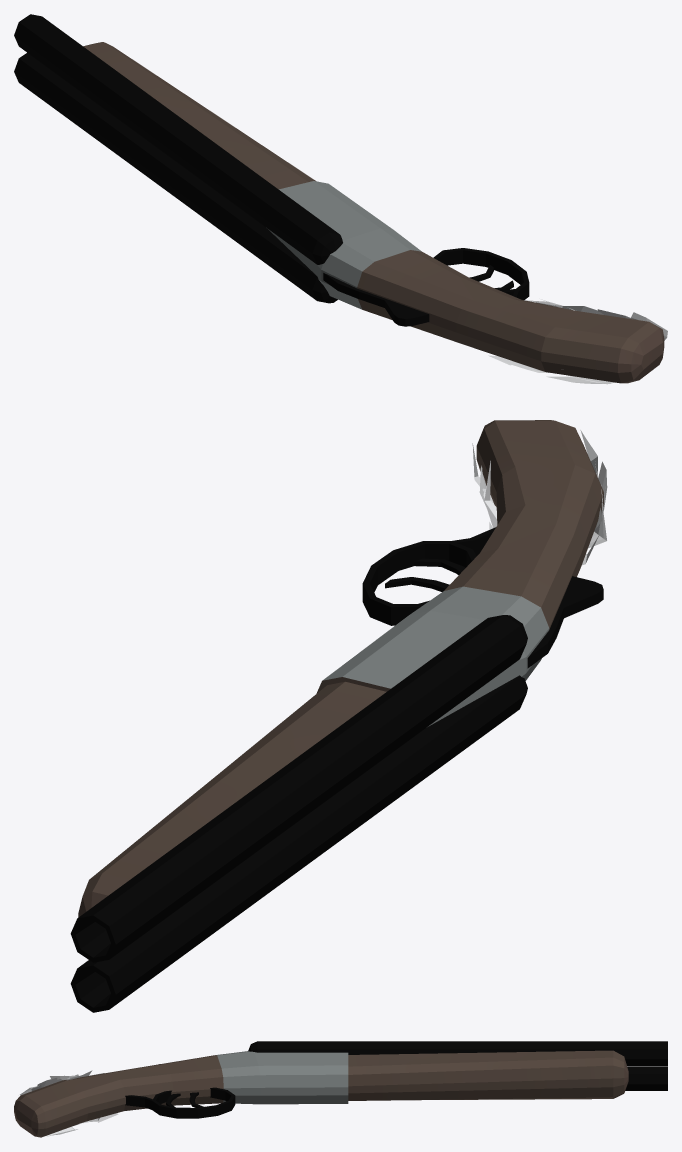
File: weapons_zombie_modern_shotgun_serrated.glb
3 renders of one model, top to bottom at view 1: azimuth 30°, elevation 25°; view 2: azimuth 150°, elevation 25°; view 3: azimuth 270°, elevation 25°, orthographic. The views are drawn at different scales.
Parts seen in each view (by area): view 1: Shotgun_Serrated; view 2: Shotgun_Serrated; view 3: Shotgun_Serrated.
Boxes of the visible parts, left/top/right/bottom form: Shotgun_Serrated: left=14, top=14, right=667, bottom=384; Shotgun_Serrated: left=70, top=420, right=607, bottom=1012; Shotgun_Serrated: left=14, top=1041, right=667, bottom=1137.
Size of the model in its own units: 0.2659 by 0.0931 by 1.11.
1 material, 1 textured.
